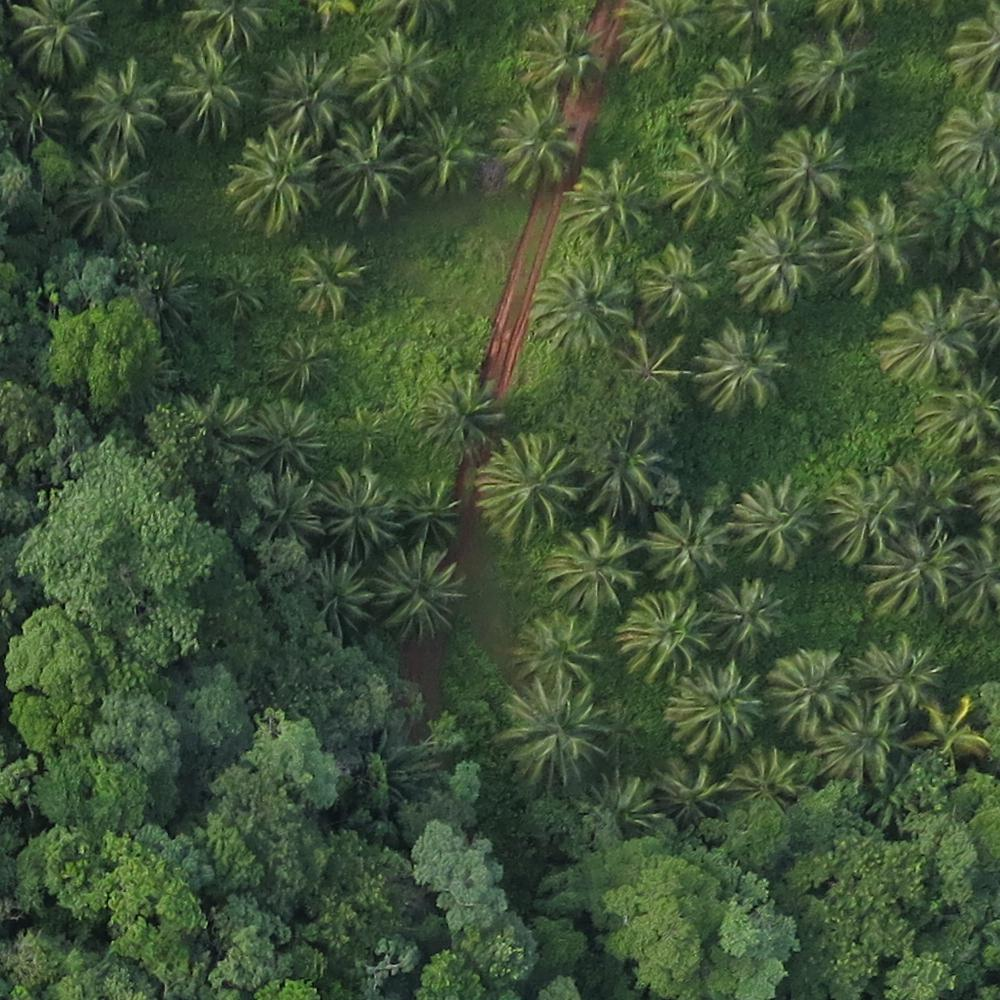Palm: (499, 682, 606, 784), (478, 436, 579, 536), (530, 254, 633, 350), (831, 193, 925, 295), (162, 41, 256, 139), (736, 217, 830, 315), (230, 131, 324, 227), (882, 288, 975, 384), (323, 122, 413, 221), (619, 589, 714, 682), (668, 664, 761, 755), (510, 612, 612, 694), (262, 44, 350, 139), (696, 324, 791, 412), (70, 143, 157, 239), (546, 525, 638, 614), (823, 464, 908, 560), (350, 33, 440, 123), (370, 551, 466, 635), (853, 636, 946, 722), (873, 530, 964, 615), (764, 648, 852, 735), (729, 479, 818, 565), (787, 31, 877, 116), (690, 56, 779, 141), (315, 467, 400, 556), (80, 63, 165, 150), (660, 136, 749, 219), (495, 100, 579, 186), (818, 702, 906, 782), (766, 130, 853, 210), (636, 241, 721, 322), (407, 108, 485, 195), (6, 1, 100, 73), (522, 11, 601, 95), (566, 171, 652, 247), (925, 369, 1000, 456), (707, 579, 790, 657), (417, 378, 497, 457), (647, 506, 728, 579), (289, 240, 366, 315), (253, 399, 328, 473), (396, 477, 468, 548), (264, 331, 339, 395)
